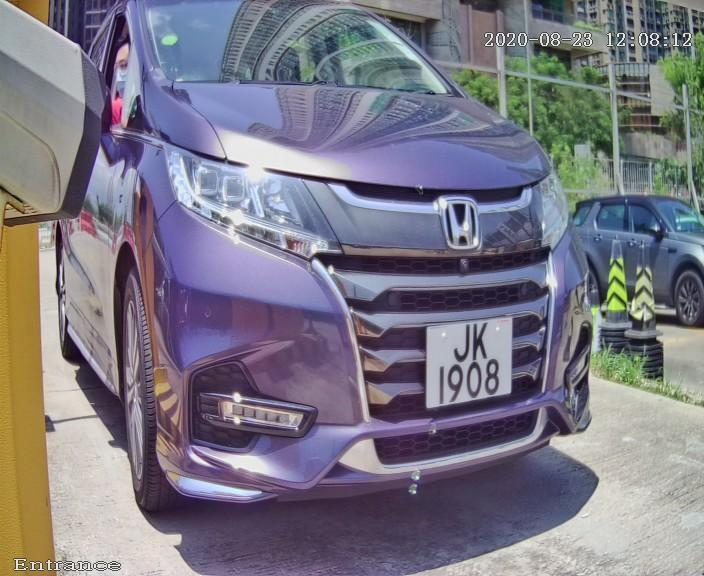License Plate: (412, 296, 516, 427)
